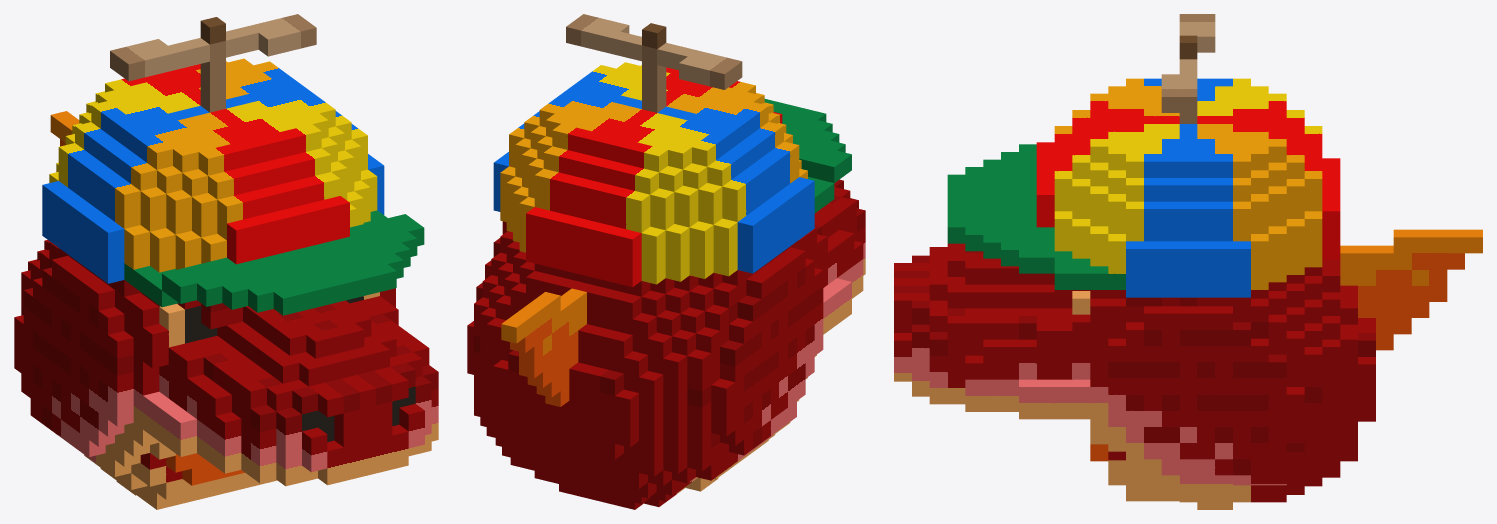
Rendered from rainbow hat_rainbow shades.gltf.
3 renders of one model, left to right at view 1: azimuth 30°, elevation 25°; view 2: azimuth 150°, elevation 25°; view 3: azimuth 270°, elevation 25°, orthographic. The views are drawn at different scales.
Visible parts, largest first — view 1: C40_H_RainBowH_CoolDude_3DG_RBShade-Mesh; view 2: C40_H_RainBowH_CoolDude_3DG_RBShade-Mesh; view 3: C40_H_RainBowH_CoolDude_3DG_RBShade-Mesh.
Boxes of the visible parts, x1=… form: C40_H_RainBowH_CoolDude_3DG_RBShade-Mesh: x1=14, y1=14, x2=438, y2=509; C40_H_RainBowH_CoolDude_3DG_RBShade-Mesh: x1=467, y1=14, x2=865, y2=509; C40_H_RainBowH_CoolDude_3DG_RBShade-Mesh: x1=894, y1=14, x2=1482, y2=509.
Size of the model in its own units: 17 by 27 by 33.
Materials: 1 (1 with a texture image).
